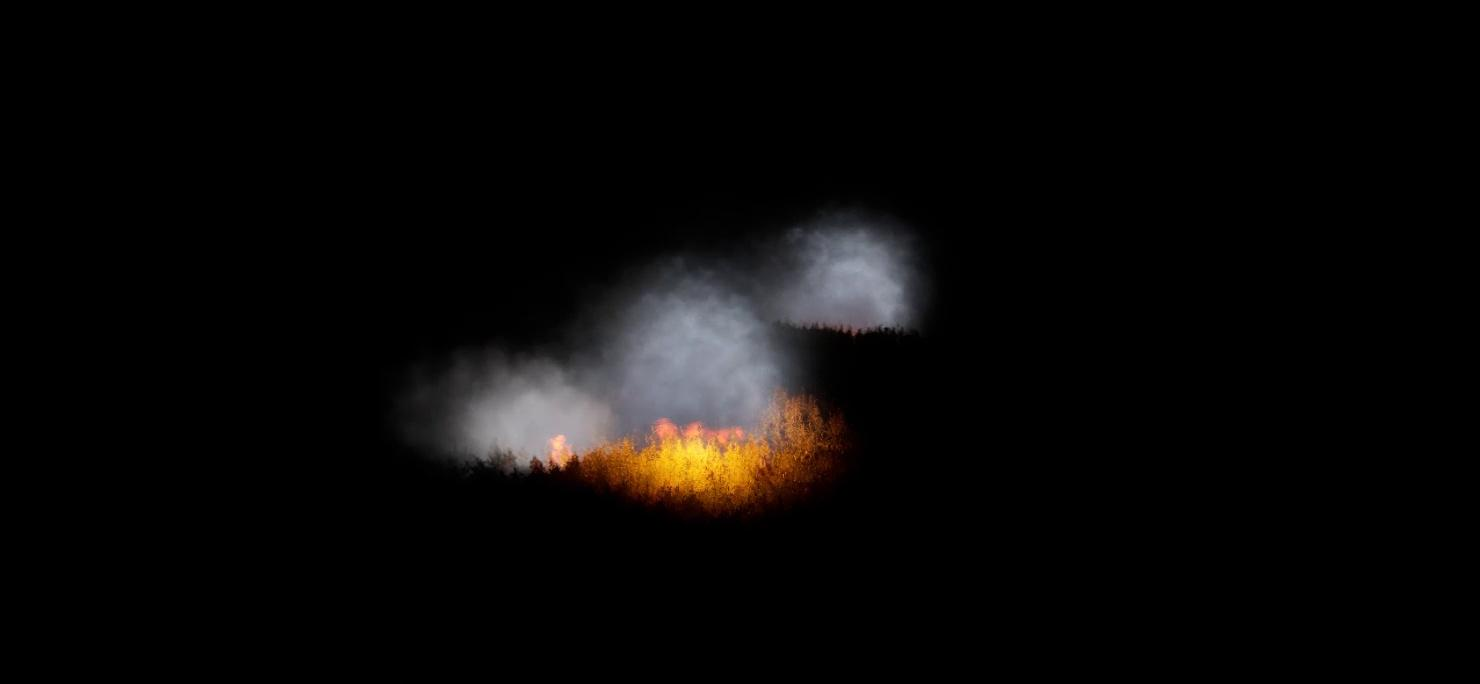fire: (545, 386, 848, 506)
smoke: (406, 210, 925, 482)
